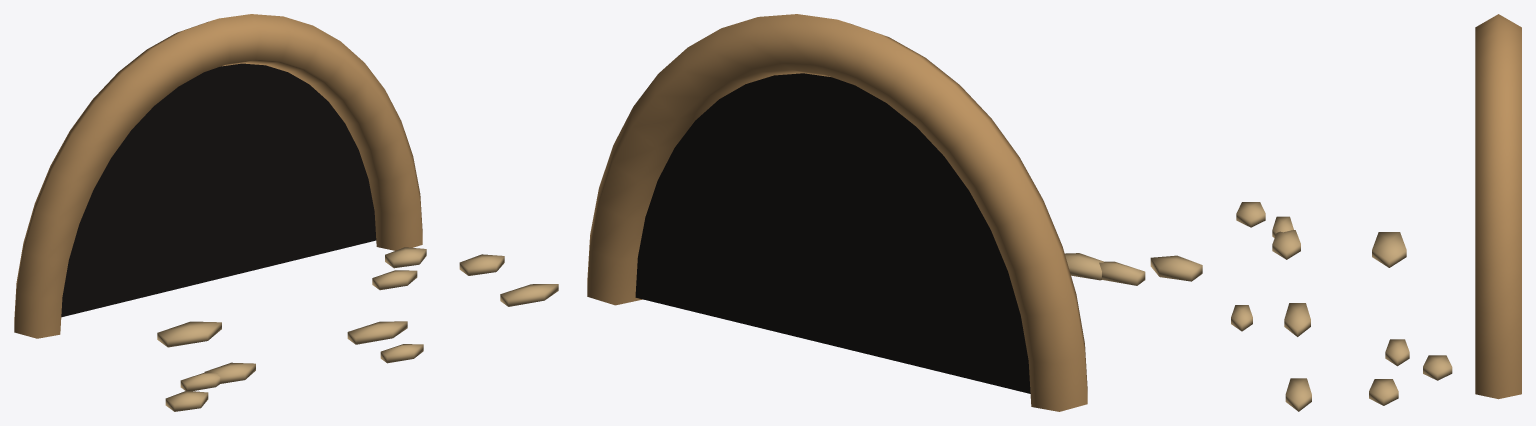
File: Hut_MouseHole.fbx
3 views of the same model, side by side, from view 1: azimuth 30°, elevation 25°; view 2: azimuth 150°, elevation 25°; view 3: azimuth 270°, elevation 25° (orthographic). The views are drawn at different scales.
Visible parts, largest first — view 1: Hut_MouseHole; view 2: Hut_MouseHole; view 3: Hut_MouseHole.
Boxes of the visible parts, x1,y1,x2,y2 form: Hut_MouseHole: (14,14,558,411); Hut_MouseHole: (587,14,1202,411); Hut_MouseHole: (1231,14,1521,411).
Bounding box in the file's own units: 13.52 × 7.74 × 7.57.
